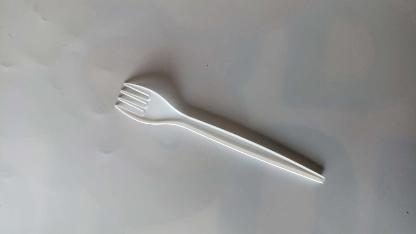Others: (108, 78, 328, 188)
